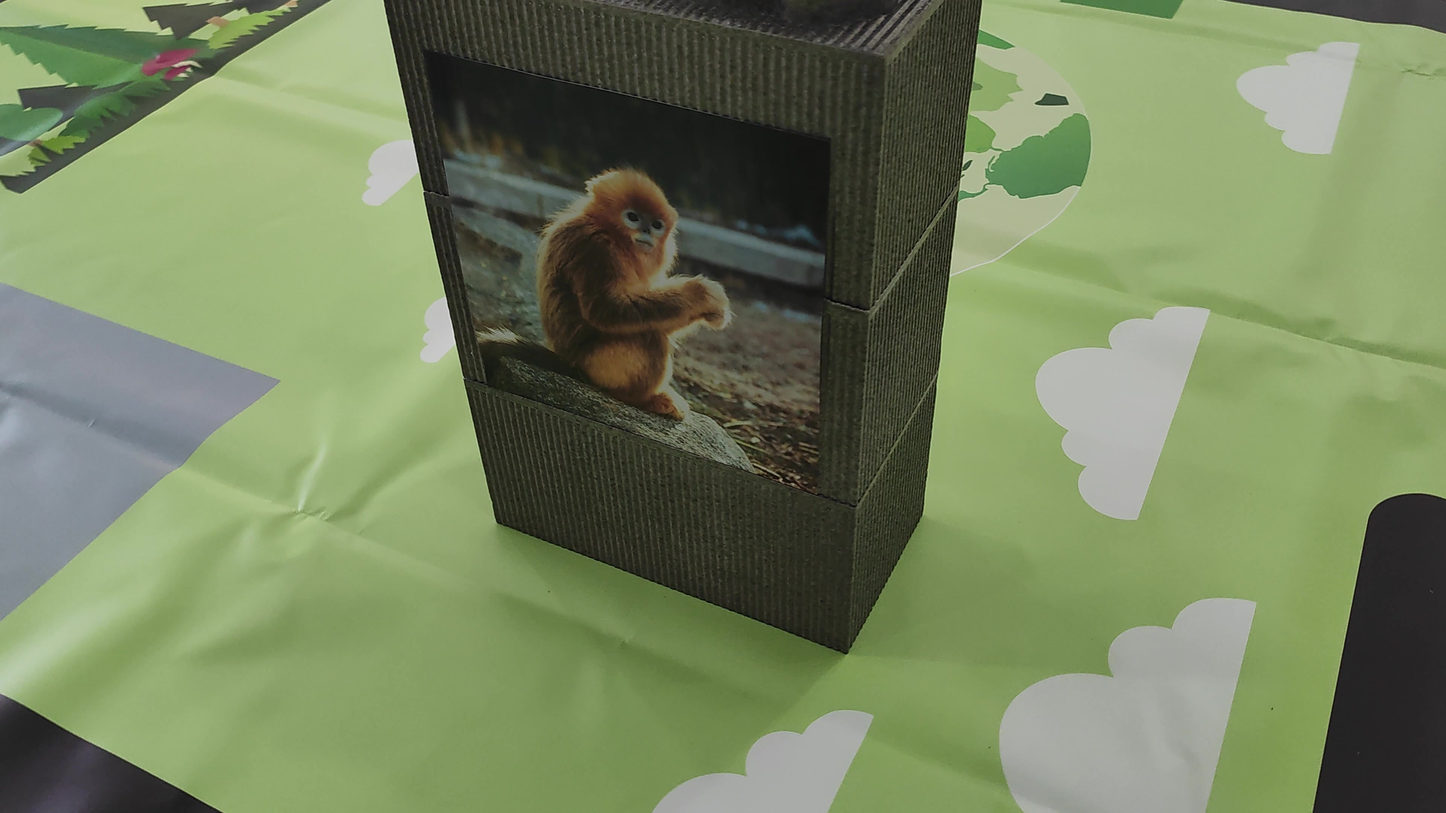monkey: (503, 151, 776, 423)
